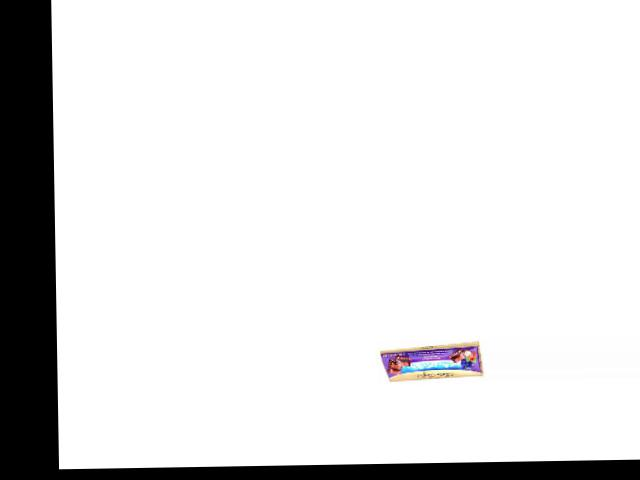chocolate: (375, 341, 483, 377)
